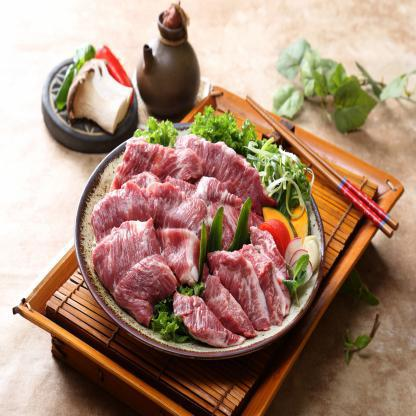pork: (113, 143, 289, 344)
